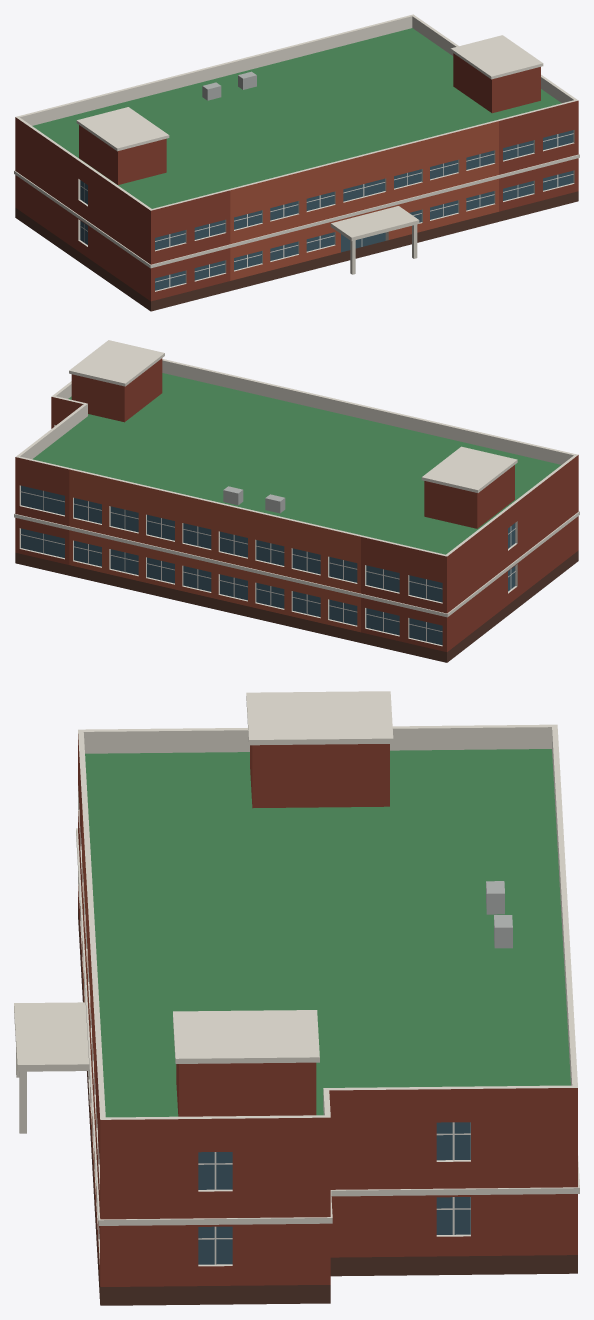
3 views of the same model, one above another, from view 1: azimuth 30°, elevation 25°; view 2: azimuth 150°, elevation 25°; view 3: azimuth 270°, elevation 25° (orthographic). The views are drawn at different scales.
Visible parts, largest first — view 1: wing4__roof, wing4__brick, wing4__wall-plaster, wing4__trim-concrete, wing4__glass, wing4__base-stone, wing4__canopy-concrete, wing4__frame, wing4__equipment; view 2: wing4__roof, wing4__brick, wing4__trim-concrete, wing4__wall-plaster, wing4__glass, wing4__base-stone, wing4__frame, wing4__equipment; view 3: wing4__roof, wing4__brick, wing4__trim-concrete, wing4__base-stone, wing4__canopy-concrete, wing4__glass, wing4__wall-plaster, wing4__equipment.
Boxes of the visible parts, left/top/right/bottom form: wing4__roof: left=32, top=28, right=561, bottom=208; wing4__brick: left=15, top=53, right=578, bottom=301; wing4__wall-plaster: left=230, top=121, right=498, bottom=280; wing4__trim-concrete: left=14, top=14, right=579, bottom=291; wing4__glass: left=80, top=130, right=573, bottom=290; wing4__base-stone: left=15, top=191, right=578, bottom=311; wing4__canopy-concrete: left=330, top=206, right=419, bottom=274; wing4__frame: left=80, top=133, right=573, bottom=287; wing4__equipment: left=202, top=71, right=256, bottom=100; wing4__roof: left=32, top=373, right=560, bottom=554; wing4__brick: left=15, top=358, right=578, bottom=651; wing4__trim-concrete: left=14, top=340, right=579, bottom=646; wing4__wall-plaster: left=69, top=469, right=360, bottom=632; wing4__glass: left=21, top=425, right=515, bottom=645; wing4__base-stone: left=15, top=550, right=578, bottom=662; wing4__frame: left=20, top=490, right=515, bottom=641; wing4__equipment: left=223, top=486, right=285, bottom=513; wing4__roof: left=85, top=749, right=570, bottom=1117; wing4__brick: left=78, top=734, right=577, bottom=1286; wing4__trim-concrete: left=76, top=691, right=579, bottom=1266; wing4__base-stone: left=78, top=901, right=577, bottom=1305; wing4__canopy-concrete: left=14, top=1002, right=89, bottom=1133; wing4__glass: left=198, top=1122, right=470, bottom=1264; wing4__wall-plaster: left=82, top=804, right=95, bottom=1209; wing4__equipment: left=486, top=881, right=512, bottom=948.
Size of the model in its own units: 40.98 by 11.25 by 24.7.
